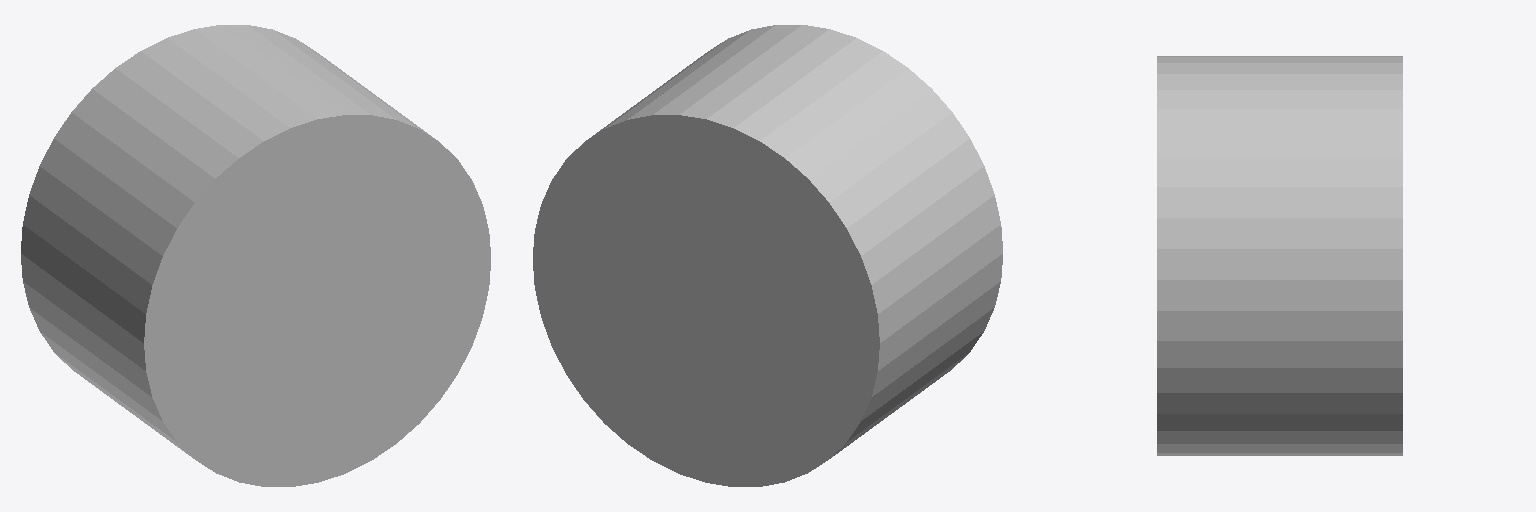
Rendered from viper_cylwheel.obj.
3 views of the same model, side by side, from view 1: azimuth 30°, elevation 25°; view 2: azimuth 150°, elevation 25°; view 3: azimuth 270°, elevation 25° (orthographic).
Visible parts, largest first — view 1: viper_cylwheel; view 2: viper_cylwheel; view 3: viper_cylwheel.
Boxes of the visible parts, x1,y1,x2,y2 form: viper_cylwheel: [21, 25, 490, 486]; viper_cylwheel: [533, 25, 1002, 486]; viper_cylwheel: [1157, 56, 1402, 455].
Bounding box in the file's own units: 0.416 × 0.416 × 0.256.